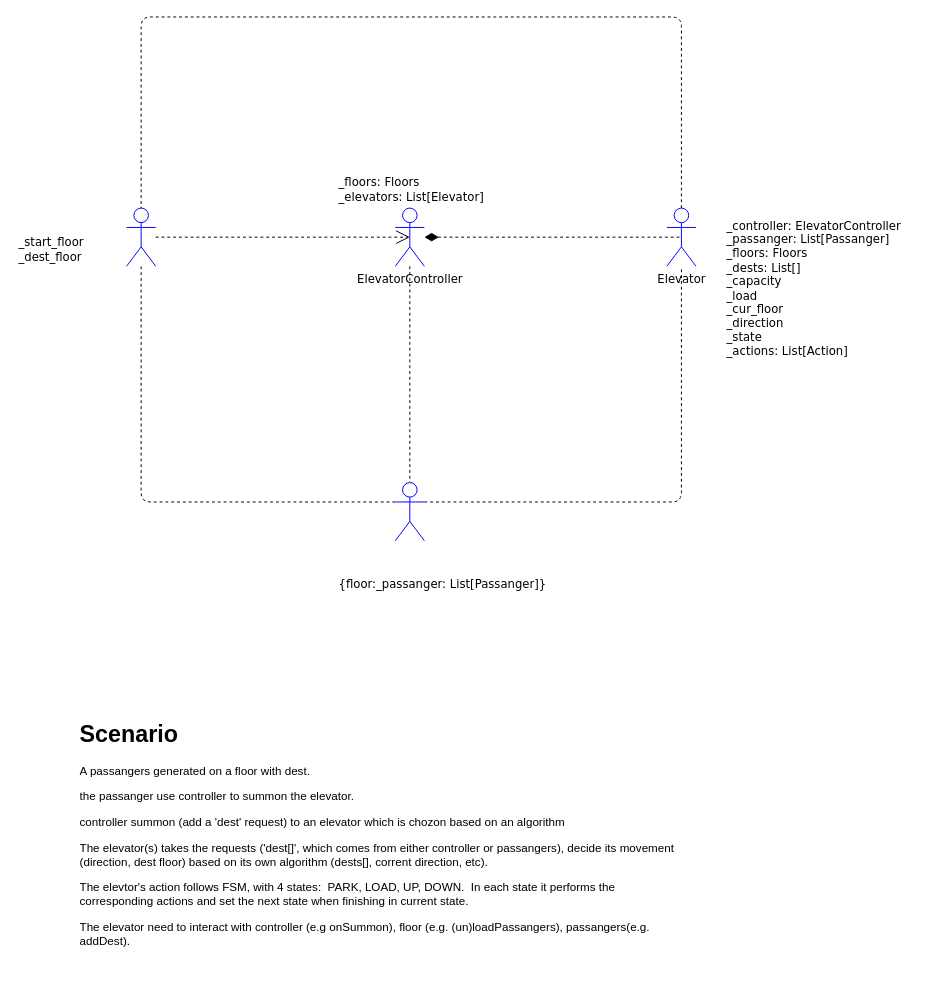
This 935x1004 diagram has some shape labels left out. Each missing label, with the centre of its shape:
Floors: the point at 409,511
Passanger: the point at 141,236
